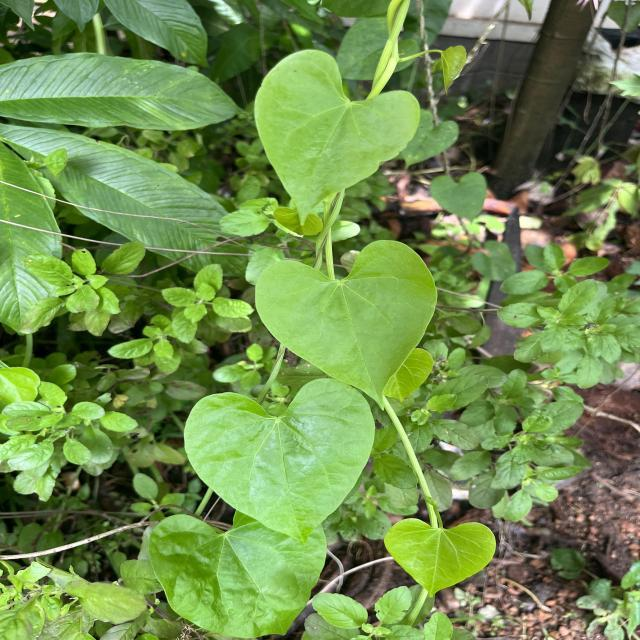Tinospora cordifolia: (178, 373, 378, 551), (252, 236, 439, 414), (251, 47, 422, 230), (146, 502, 331, 640)
